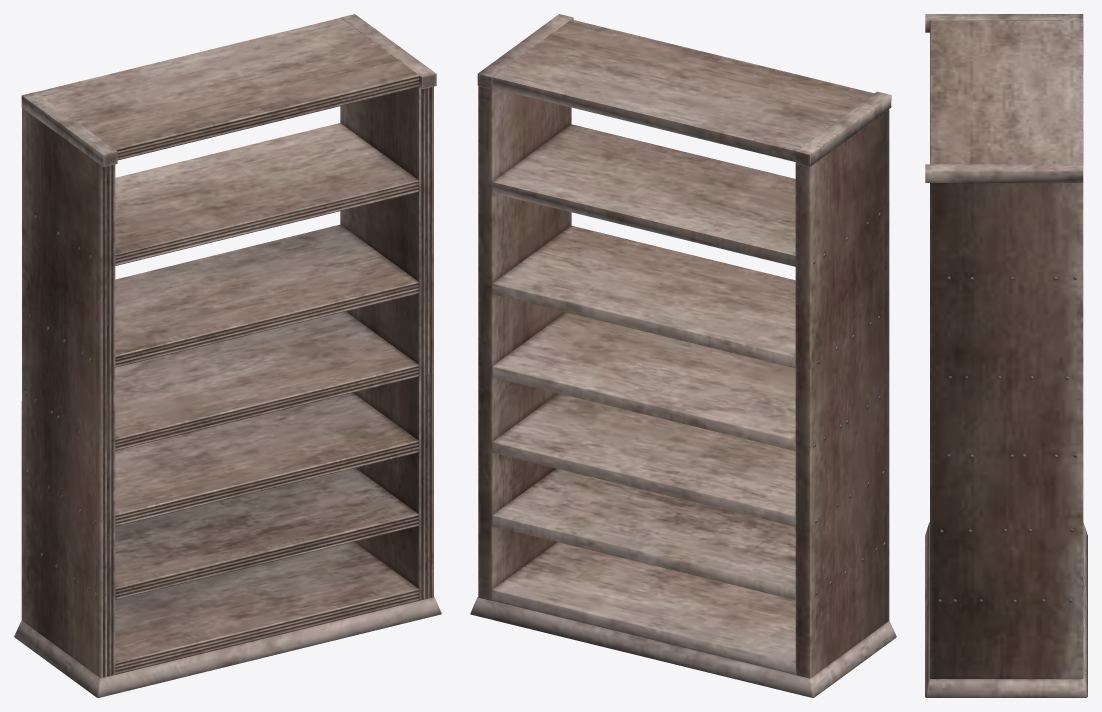
File: shelf.glb
3 views of the same model, side by side, from view 1: azimuth 30°, elevation 25°; view 2: azimuth 150°, elevation 25°; view 3: azimuth 270°, elevation 25° (orthographic). The views are drawn at different scales.
Visible parts, largest first — view 1: wooden_bookshelf_worn; view 2: wooden_bookshelf_worn; view 3: wooden_bookshelf_worn.
Boxes of the visible parts, x1,y1,x2,y2 form: wooden_bookshelf_worn: [14, 14, 441, 697]; wooden_bookshelf_worn: [470, 14, 896, 697]; wooden_bookshelf_worn: [925, 14, 1087, 697].
Bounding box in the file's own units: 1.37 × 2.06 × 0.5813.
Materials: 1 (1 with a texture image).
